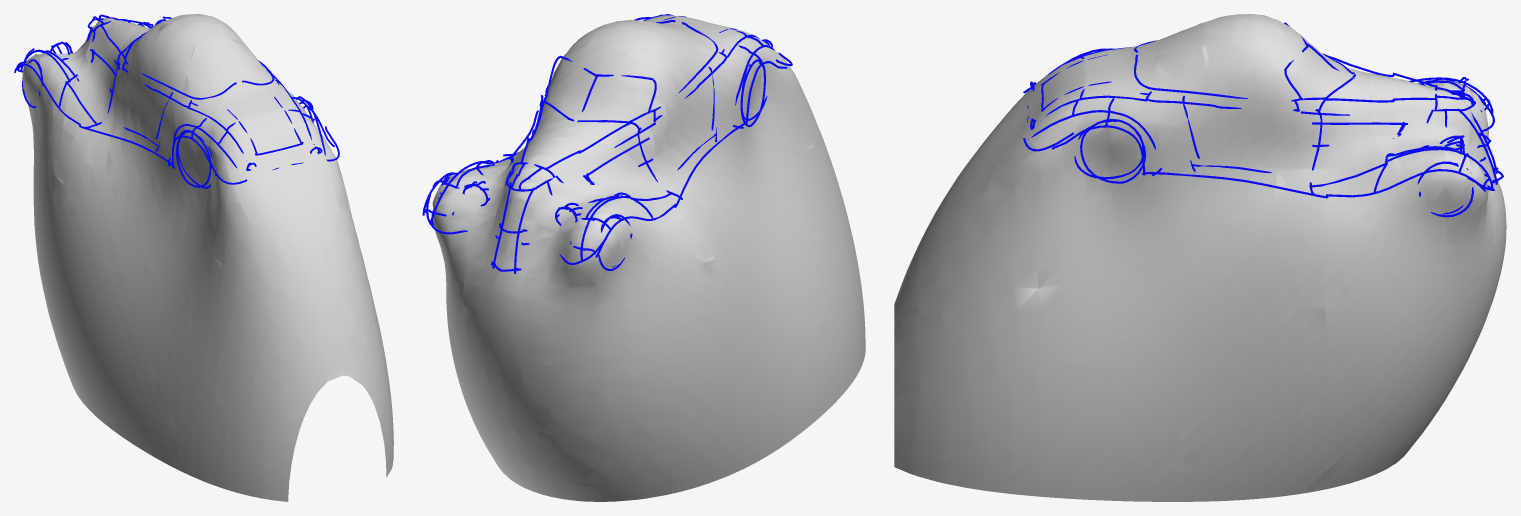
File: cassie_car_sketch_proxy.glb
3 views of the same model, side by side, from view 1: azimuth 30°, elevation 25°; view 2: azimuth 150°, elevation 25°; view 3: azimuth 270°, elevation 25° (orthographic). The views are drawn at different scales.
Parts seen in each view (by area): view 1: cassie_car_surface, cassie_car; view 2: cassie_car_surface, cassie_car; view 3: cassie_car_surface, cassie_car.
Boxes of the visible parts, x1,y1,x2,y2 form: cassie_car_surface: (22,14,393,501); cassie_car: (14,14,339,188); cassie_car_surface: (432,15,865,501); cassie_car: (422,14,792,273); cassie_car_surface: (894,14,1506,501); cassie_car: (1023,22,1503,217).
Bounding box in the file's own units: 0.5681 × 0.853 × 1.12.
